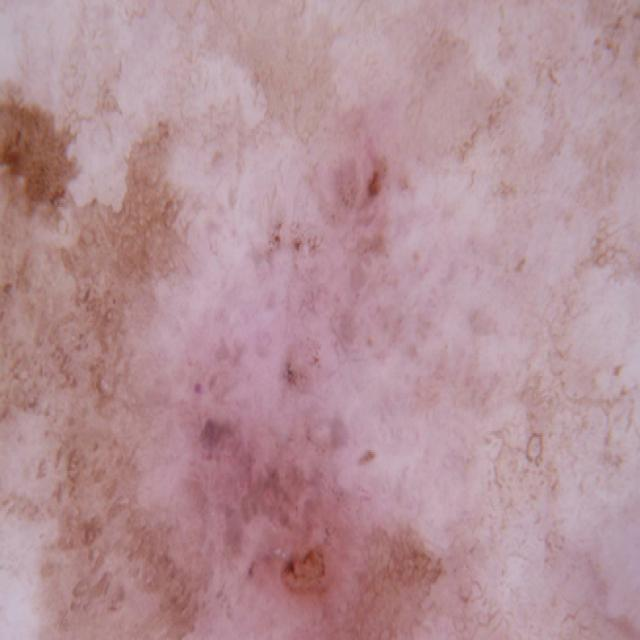Carcinoma: (0, 76, 511, 640)
